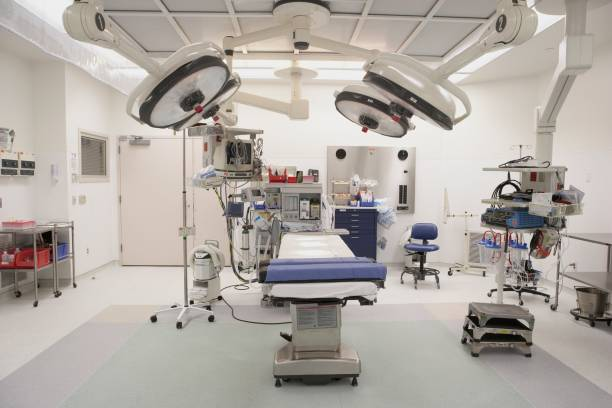bedside_monitor: (212, 138, 256, 177)
chair: (400, 221, 442, 292)
electrosurgical_unit: (477, 210, 544, 227)
handle: (352, 225, 360, 229), (352, 219, 360, 223), (352, 235, 360, 239), (352, 213, 360, 217)
iv_pole: (150, 127, 216, 329)
medical_drawer: (334, 206, 381, 262)
operating_bed: (258, 229, 387, 388)
surgical_light: (138, 52, 225, 132), (368, 52, 455, 132), (333, 93, 411, 144), (189, 76, 242, 130)
utility_cart: (1, 219, 78, 308), (556, 225, 611, 333)
waste_bin: (568, 285, 612, 327)
